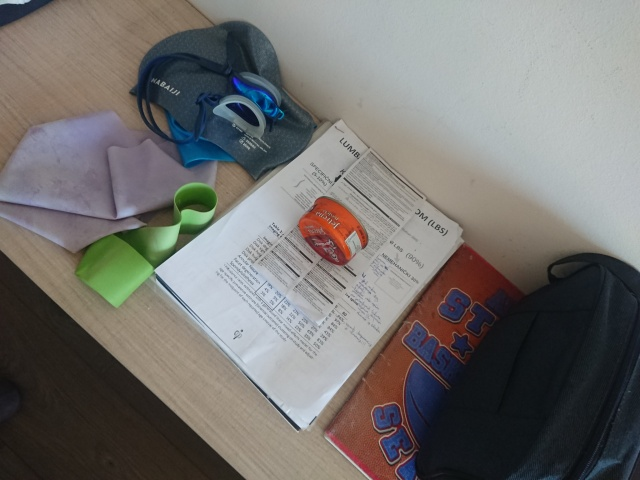Gavrilovic Pork Liver Pate 100g: (295, 193, 371, 267)
